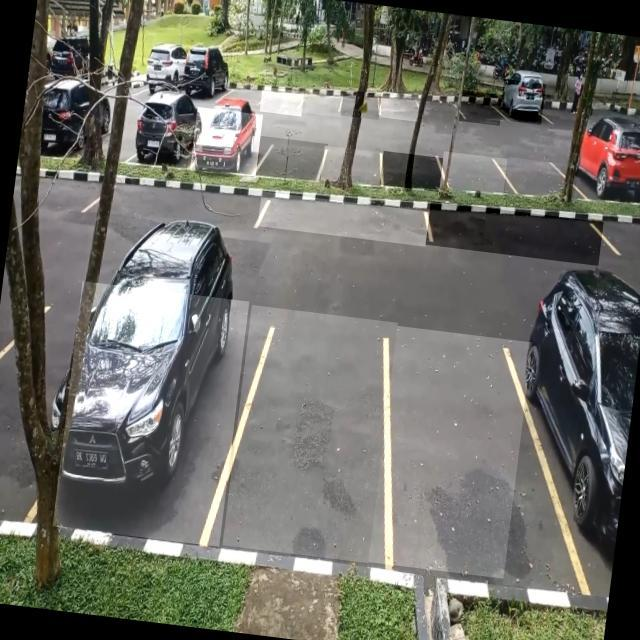empty: (222, 304, 397, 562), (368, 326, 535, 579), (425, 201, 603, 265), (257, 191, 429, 246), (255, 136, 328, 183), (439, 150, 507, 196), (379, 150, 443, 192), (320, 145, 383, 187), (504, 156, 567, 198), (458, 90, 502, 125), (338, 89, 382, 120), (259, 86, 304, 116), (378, 91, 420, 121), (300, 88, 343, 117)
occupied: (52, 280, 250, 546), (502, 326, 640, 597), (574, 118, 640, 206), (190, 106, 263, 176), (498, 78, 546, 124)
